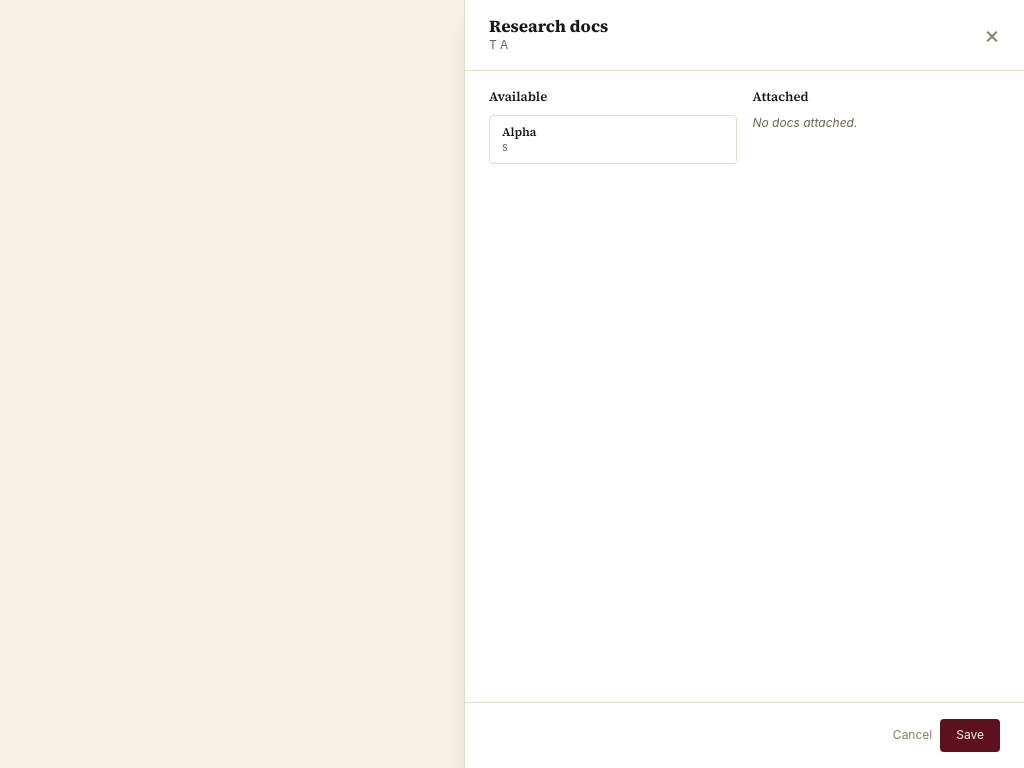
it: TemplateResearchEditor › attach moves a doc from Available to Attached
This screenshot has width=1024, height=768.
Click the button with test id "attach-a".
click(613, 139)  # box [489,114,736,164]
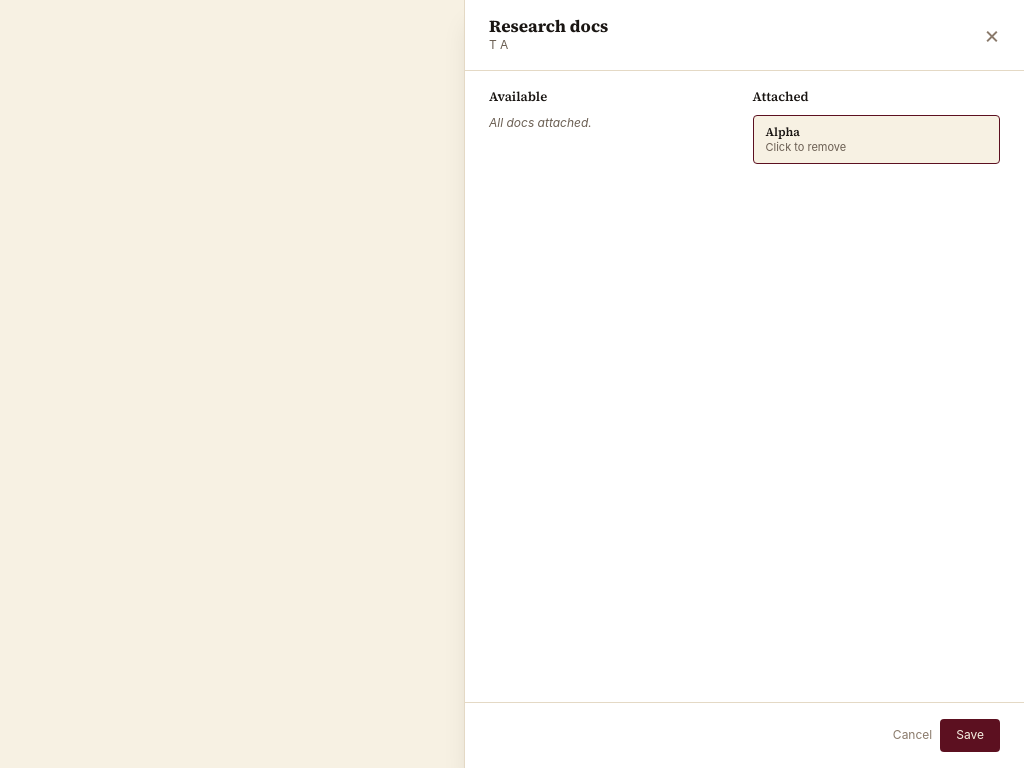
Result: the button with test id "detach-a" is shown at [752,114,1000,164]
